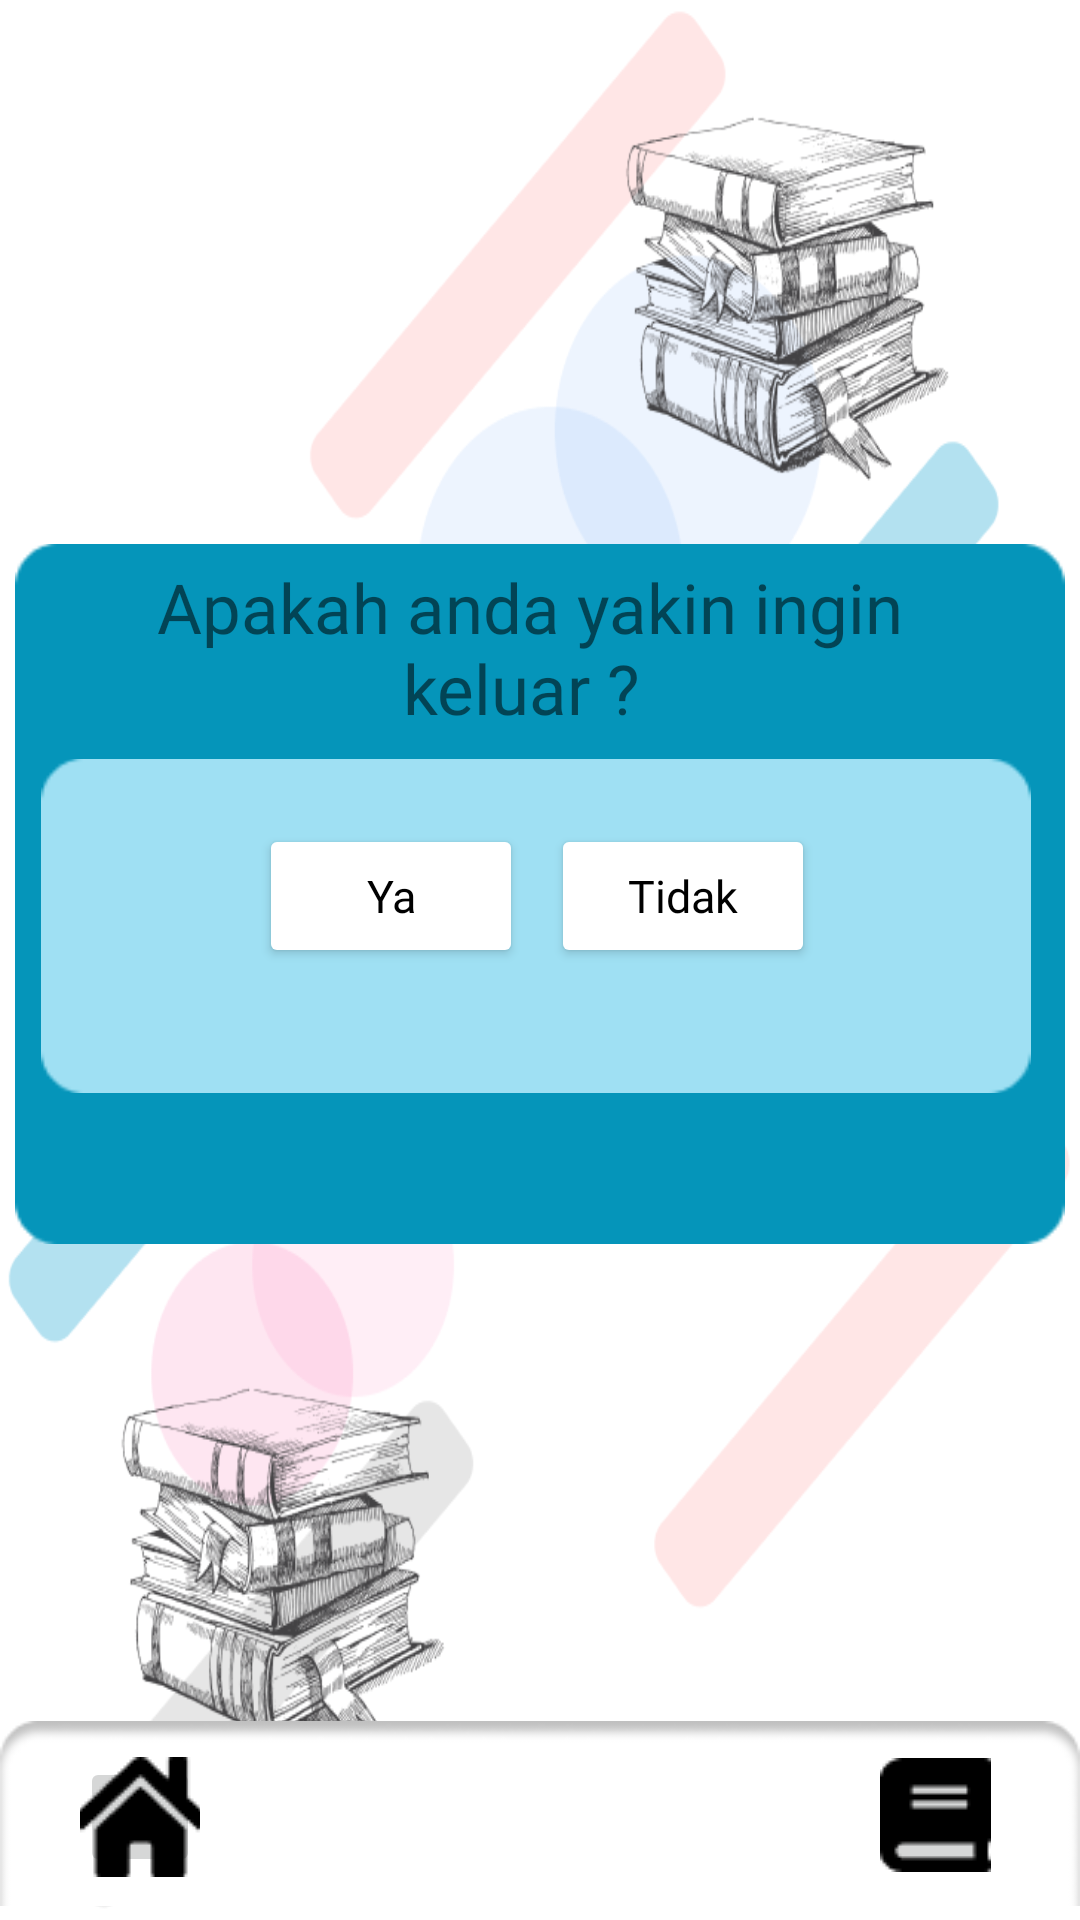

Icon click points for this 1080px×1920px phone screenshot, format [x,y]:
ebook: [935,1815]
home: [140,1817]
